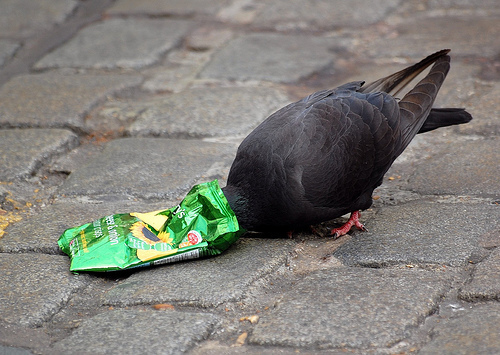litter: (54, 178, 239, 275)
